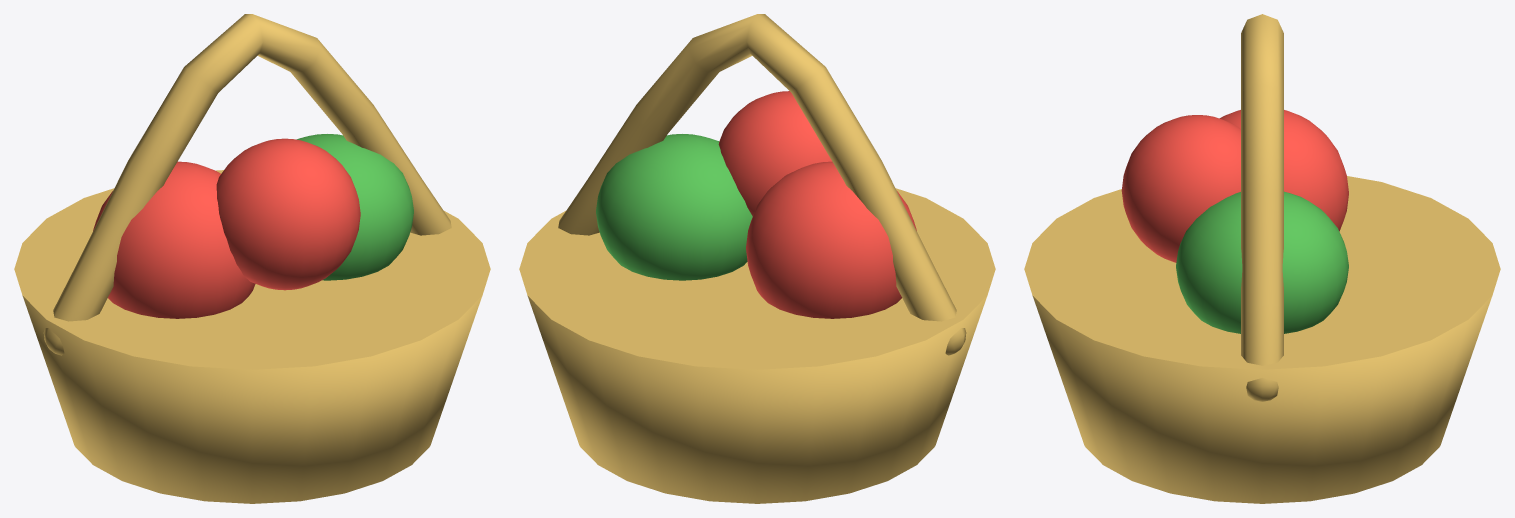
The model's file is icon_harvest.glb.
The picture shows the model from 3 angles, left to right: view 1: azimuth 30°, elevation 25°; view 2: azimuth 150°, elevation 25°; view 3: azimuth 270°, elevation 25°; orthographic projection.
Parts seen in each view (by area): view 1: icon_harvest; view 2: icon_harvest; view 3: icon_harvest.
Boxes of the visible parts, left/top/right/bottom form: icon_harvest: left=14, top=14, right=490, bottom=503; icon_harvest: left=519, top=14, right=995, bottom=503; icon_harvest: left=1024, top=14, right=1500, bottom=503.
Size of the model in its own units: 0.44 by 0.42 by 0.44.
